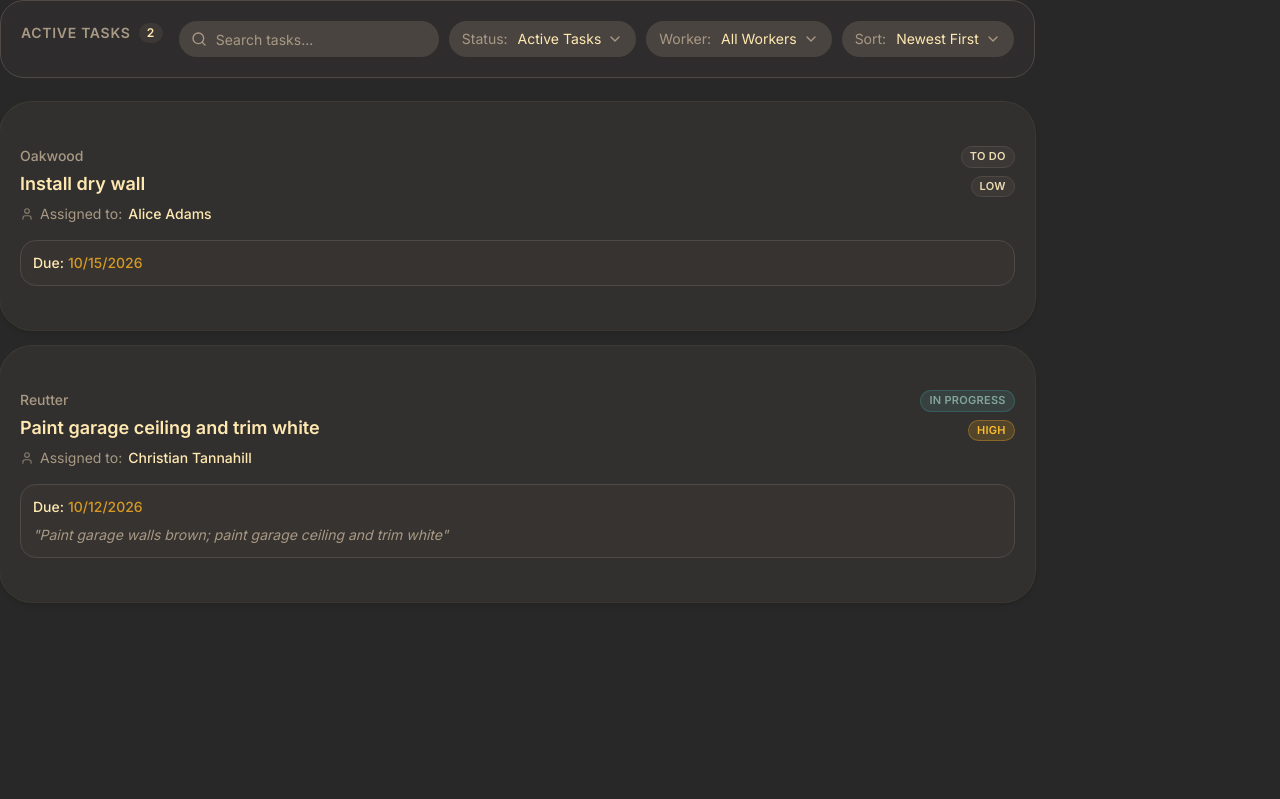
ManageTaskList › shows empty state when no tasks match filter and resets when clicked
Type "nonexistent keyword" into the field with placeholder "Search tasks...".
click(309, 39); type("nonexistent keyword")  # box [179,21,439,57]
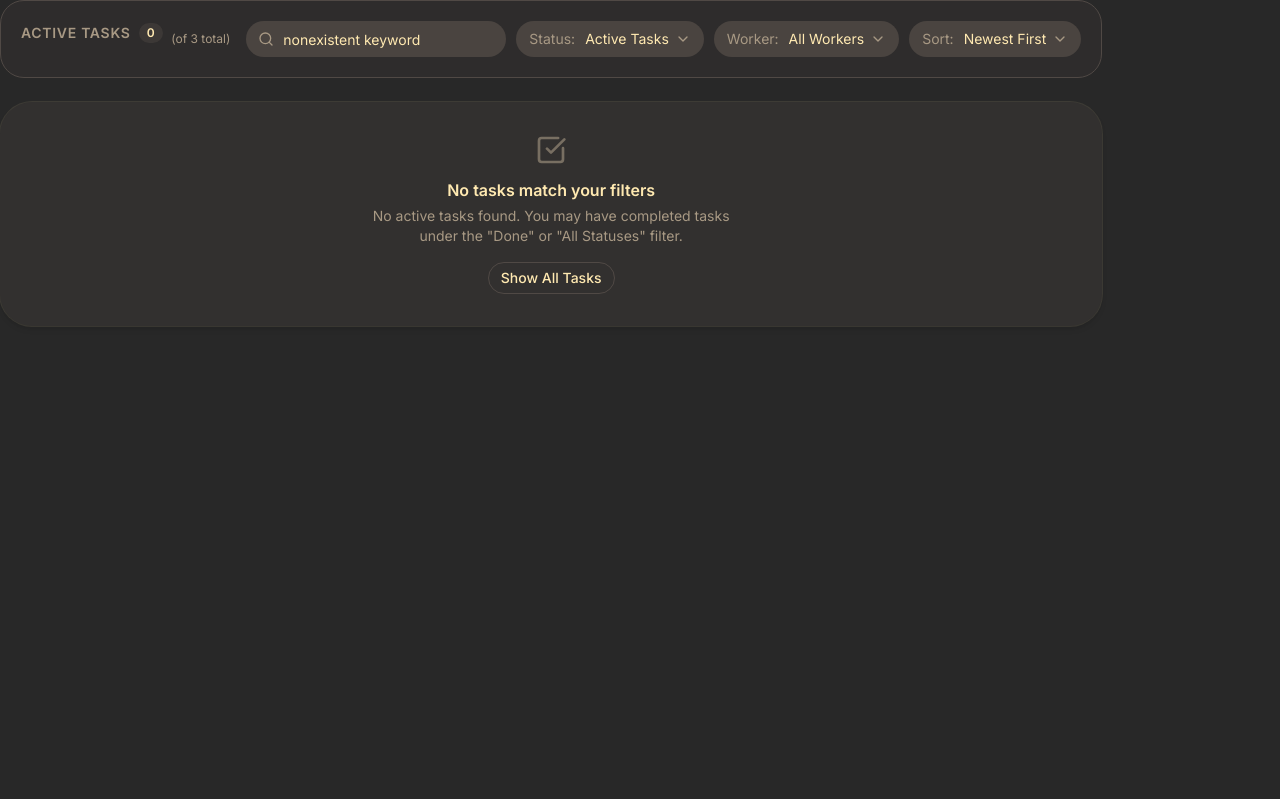
Check: the heading "No tasks match your filters" is shown, box [447,178,655,202]
Click the button "Show All Tasks".
click(551, 278)  # box [488,262,614,294]
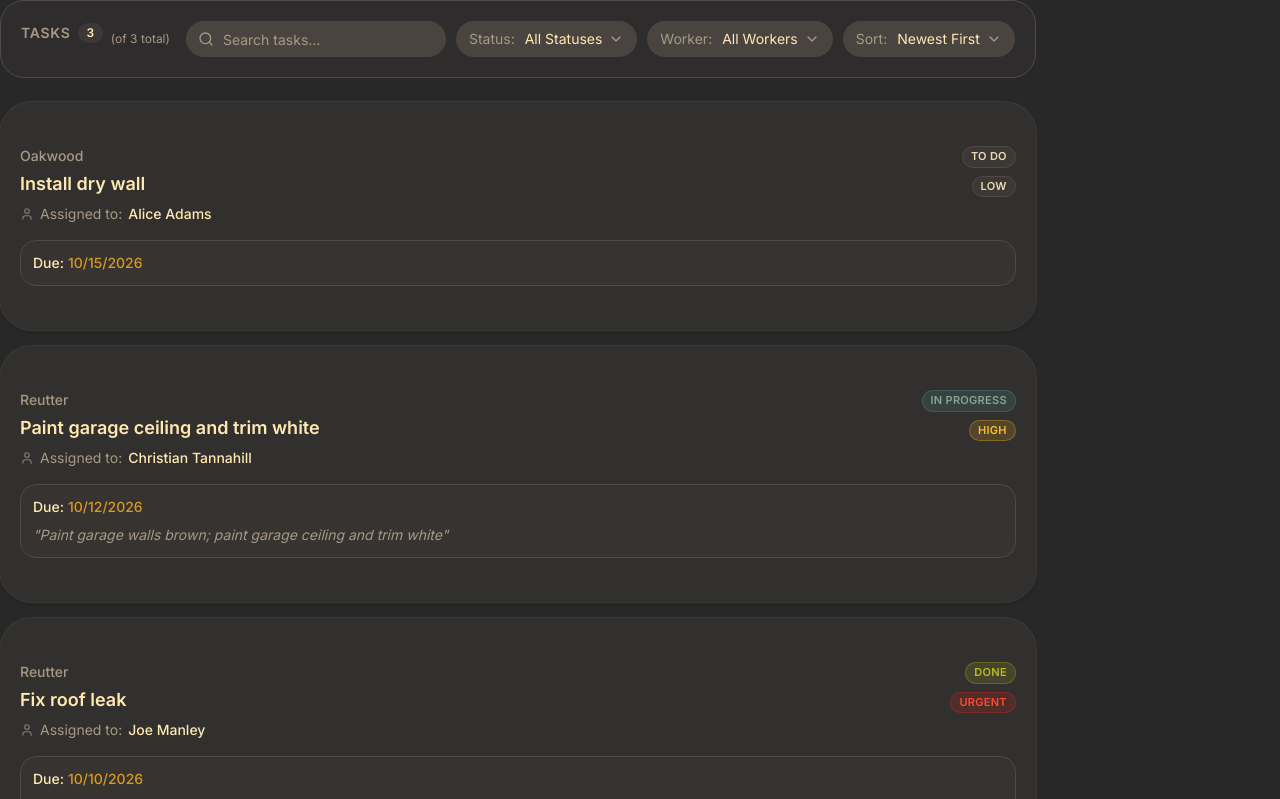
Check: the heading "Fix roof leak" is shown, box [20,689,126,710]
Check: the heading "Paint garage ceiling and trim white" is shown, box [20,414,320,442]
